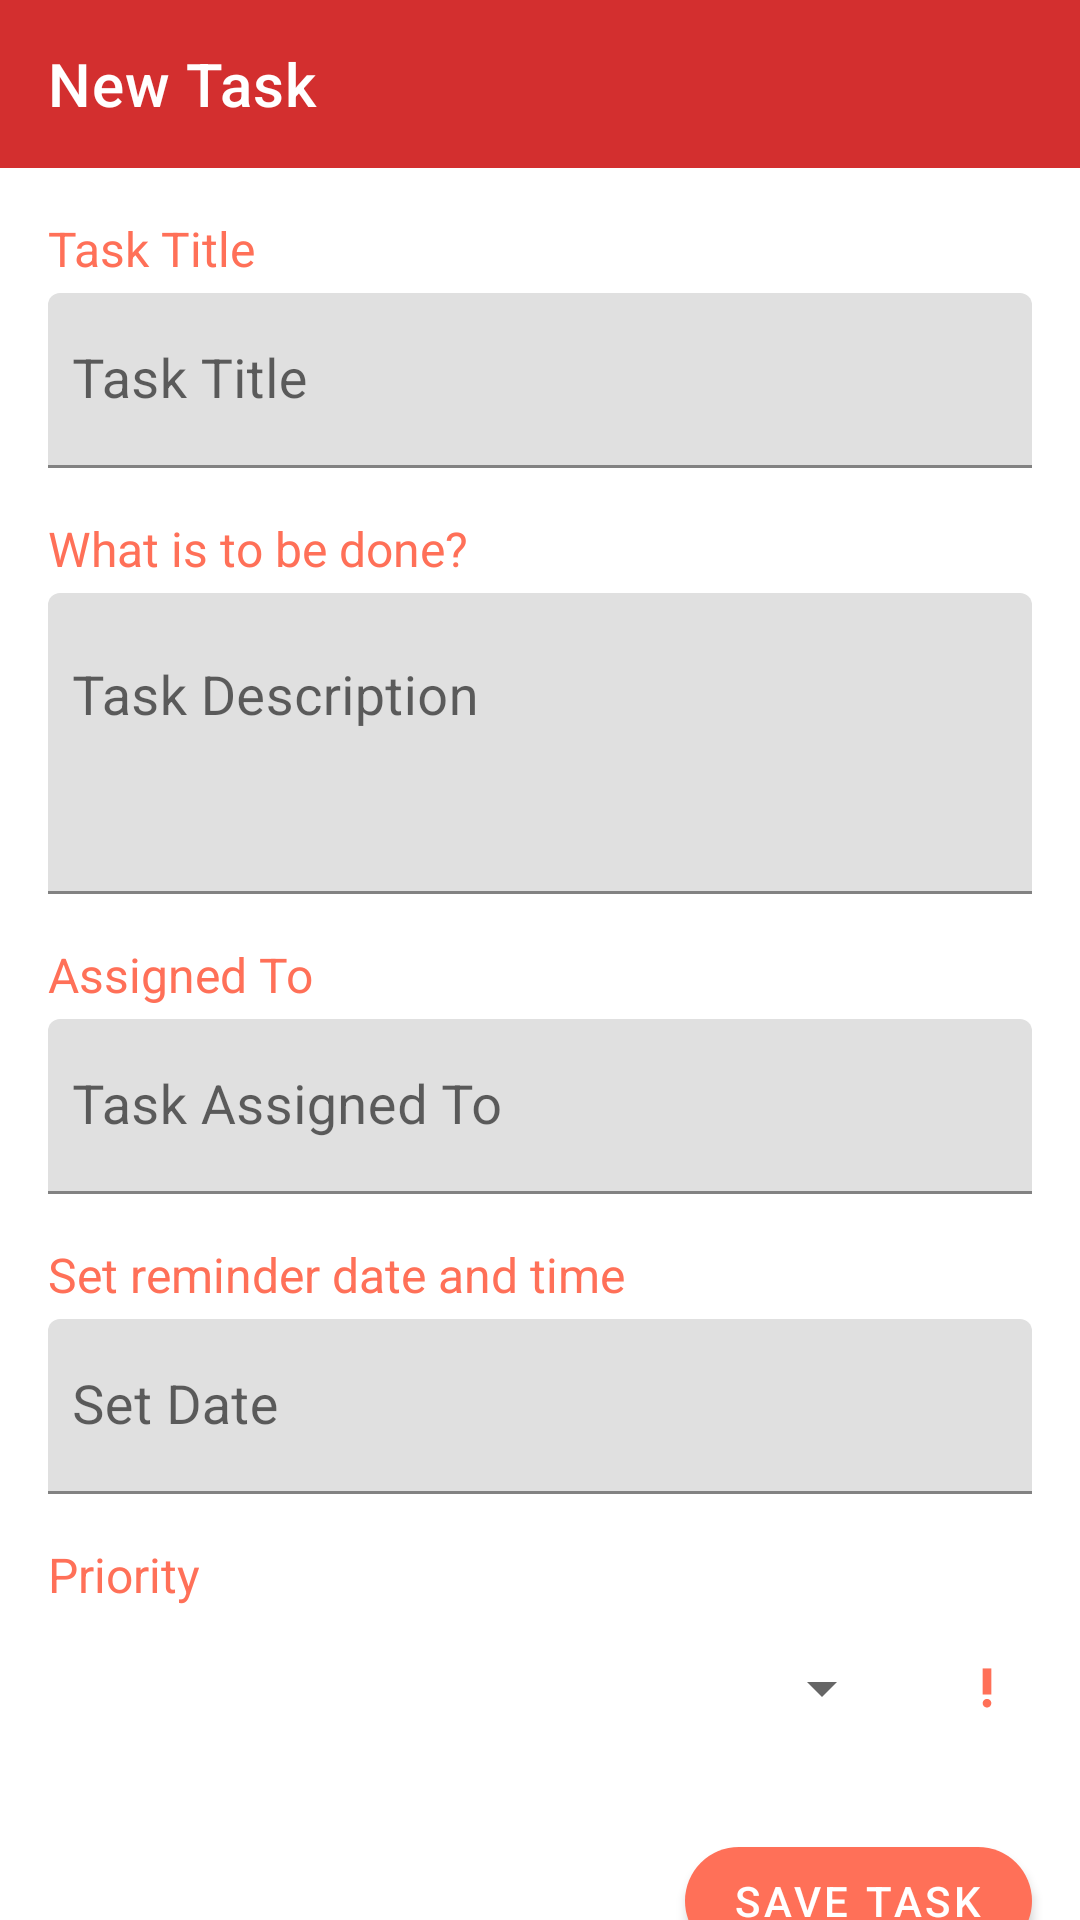

Named icons in this screenshot (1080px x 1920px) and their bounding boxes, (x1, y1, x2, y2):
priority: (982, 1668, 992, 1708)
